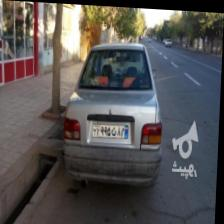plate: (94, 122, 129, 136)
